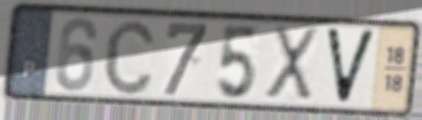5: (214, 21, 264, 101)
6: (53, 15, 98, 93)
7: (160, 20, 211, 97)
C: (101, 16, 158, 98)
V: (322, 25, 379, 108)
X: (262, 23, 321, 106)
